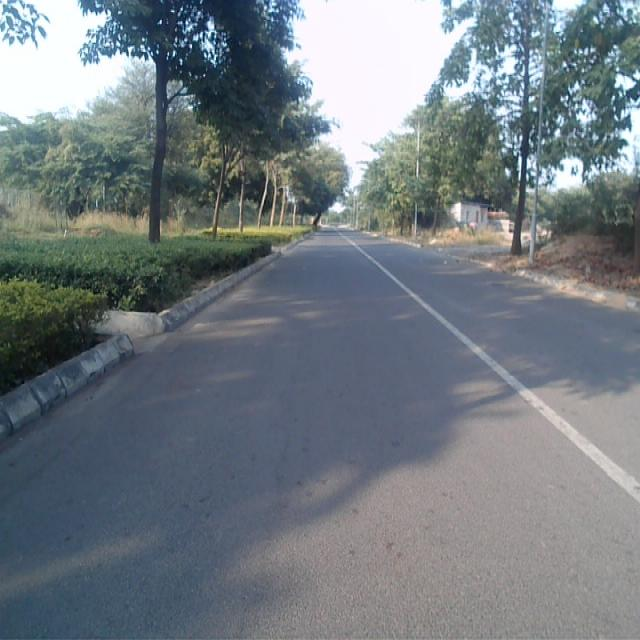lane: (0, 235, 640, 640)
